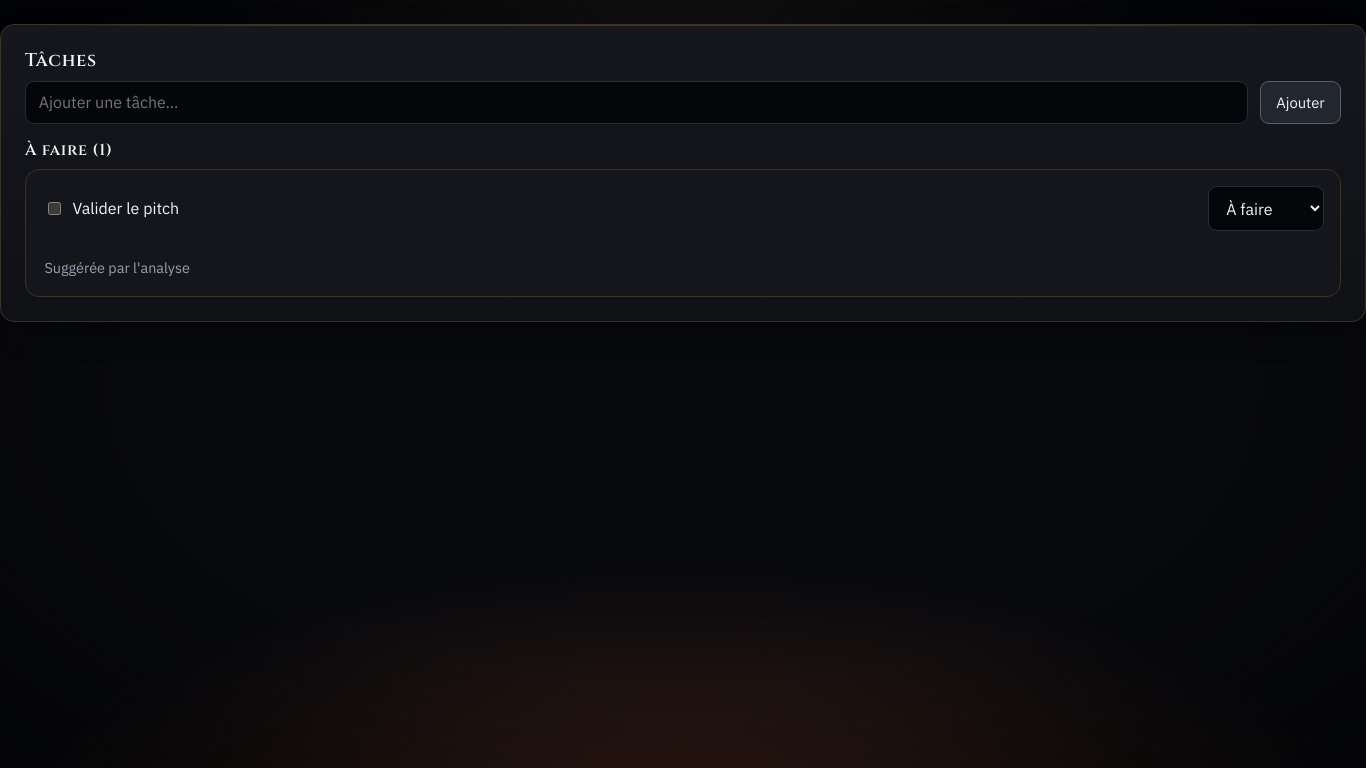
Test: TasksSection › liste les tâches et permet de créer une tâche
This screenshot has width=1366, height=768.
Expected: the text "Valider le pitch" is shown, [72,196,179,221]
Expected: the text "Suggérée par l'analyse" is shown, [44,258,190,277]
Type "Nouvelle tâche" into the field named "Nouvelle tâche" at (636, 102), box [25,81,1248,124]
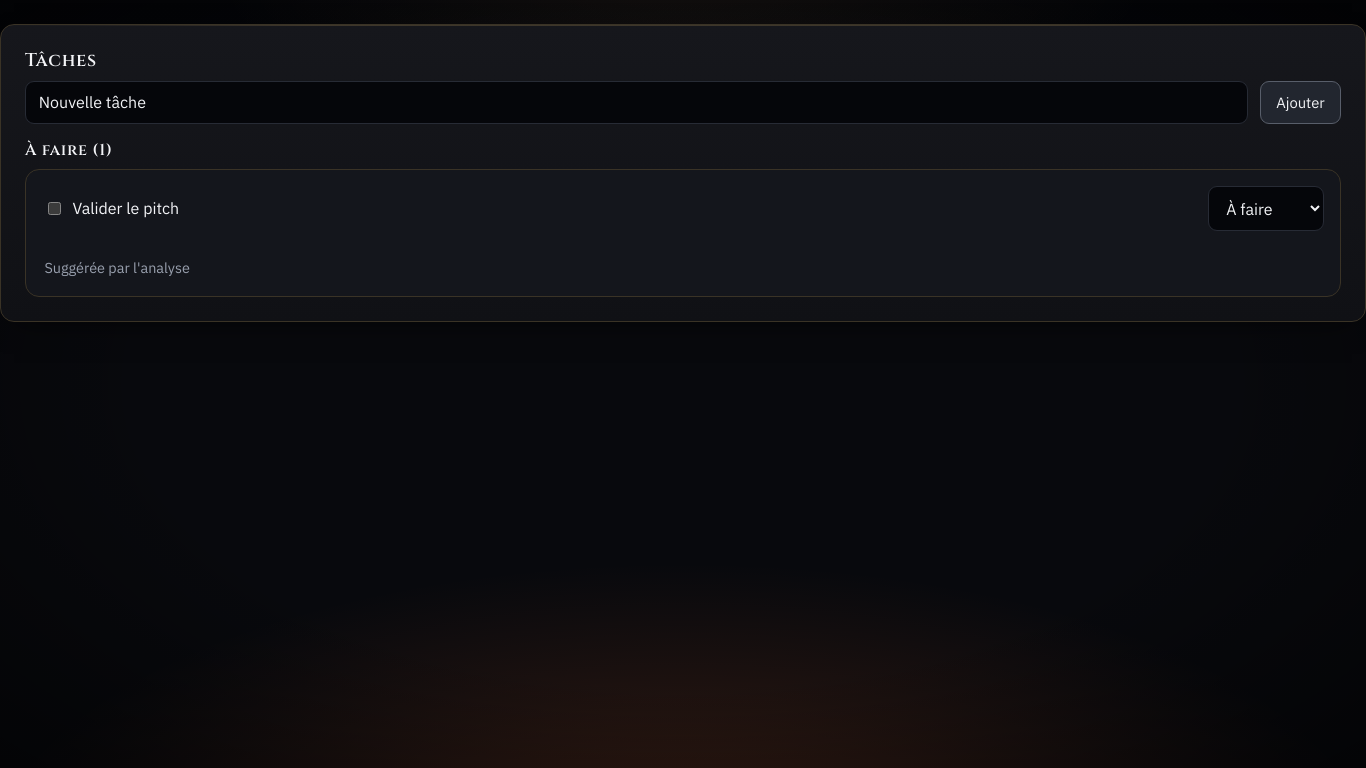
Click the button "Ajouter" at (1300, 102), box [1260,81,1341,124]
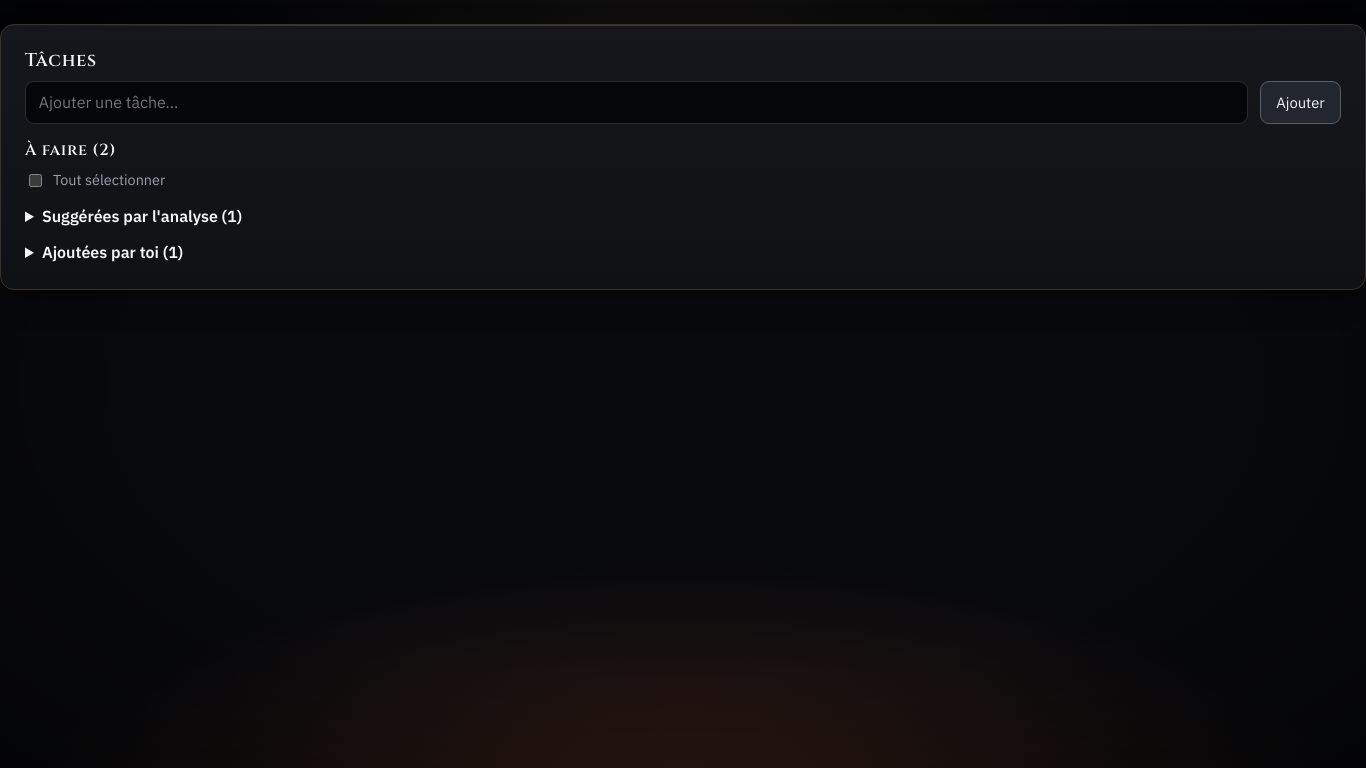
Result: the heading "Ajoutées par toi (1)" is shown at [42,242,183,262]
Result: the heading "Suggérées par l'analyse (1)" is shown at [42,206,242,226]
